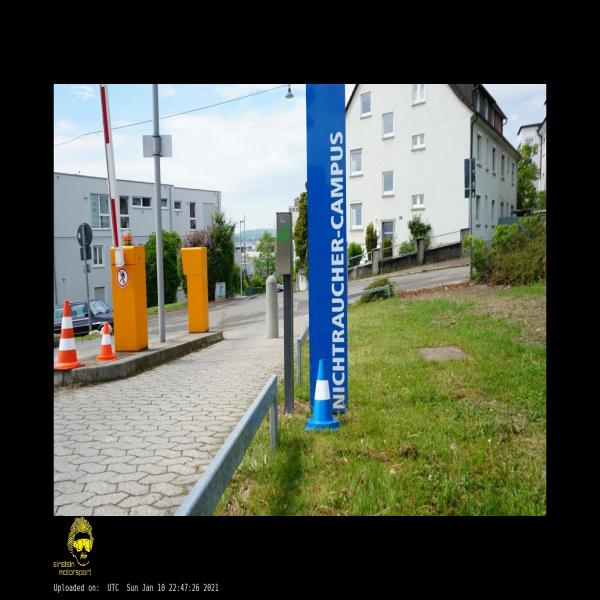blue_cone: (306, 359, 340, 431)
large_orange_cone: (54, 300, 84, 370)
orange_cone: (97, 323, 116, 360)
